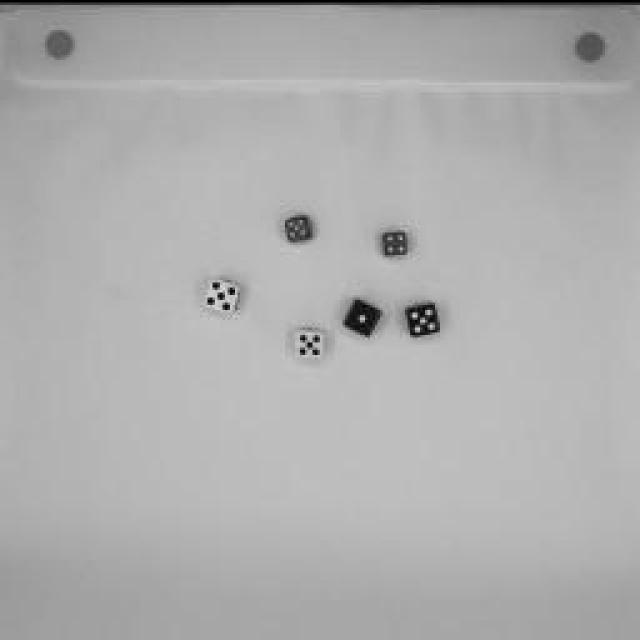dice_1: (340, 290, 385, 335)
dice_4: (375, 220, 413, 262)
dice_5: (198, 269, 248, 316), (403, 294, 445, 336), (290, 320, 330, 360), (279, 209, 319, 241)
